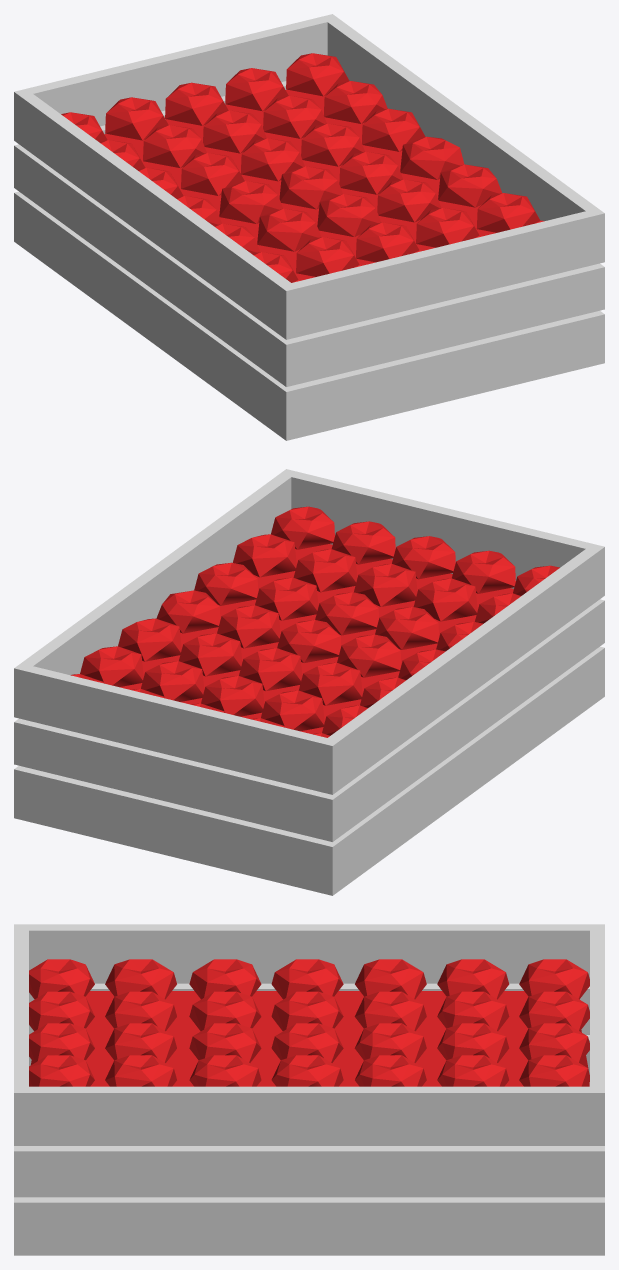
The model's file is Cajon con manzanas.fbx.
3 renders of one model, top to bottom at view 1: azimuth 30°, elevation 25°; view 2: azimuth 150°, elevation 25°; view 3: azimuth 270°, elevation 25°, orthographic. The views are drawn at different scales.
Visible parts, largest first — view 1: Icosphere.013; view 2: Icosphere.013; view 3: Icosphere.013.
Part boxes in pixels (box(x1,y1,x2,y2)): Icosphere.013: box(14, 14, 604, 440); Icosphere.013: box(14, 469, 604, 895); Icosphere.013: box(14, 924, 604, 1255).
Bounding box in the file's own units: 38.11 × 17.13 × 56.42.
